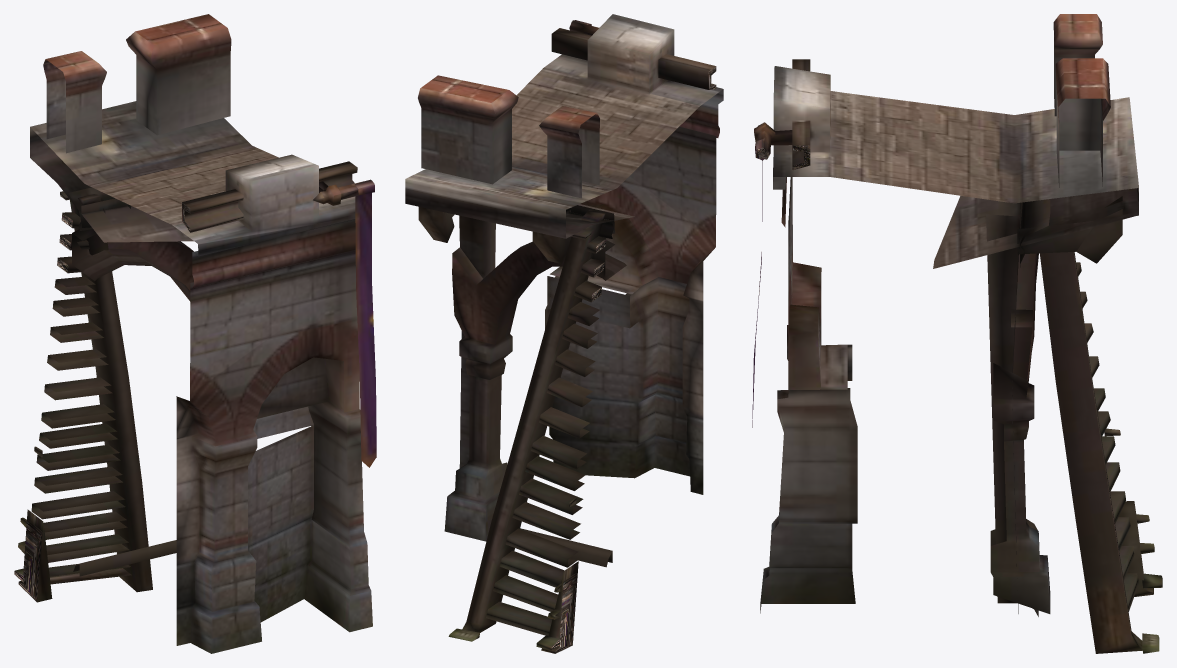
The model's file is WallRunFront_36.fbx.
3 views of the same model, side by side, from view 1: azimuth 30°, elevation 25°; view 2: azimuth 150°, elevation 25°; view 3: azimuth 270°, elevation 25° (orthographic). The views are drawn at different scales.
Parts seen in each view (by area): view 1: Imported wall section.024; view 2: Imported wall section.024; view 3: Imported wall section.024.
Part boxes in pixels (bbox=[...]): Imported wall section.024: bbox=[14, 14, 376, 653]; Imported wall section.024: bbox=[405, 14, 723, 653]; Imported wall section.024: bbox=[752, 14, 1162, 653].
Bounding box in the file's own units: 200 × 639 × 404.
1 material, 1 textured.
